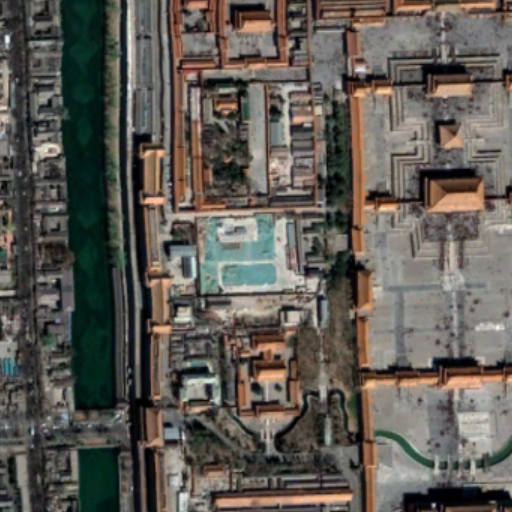cw: (196, 211, 278, 294)
